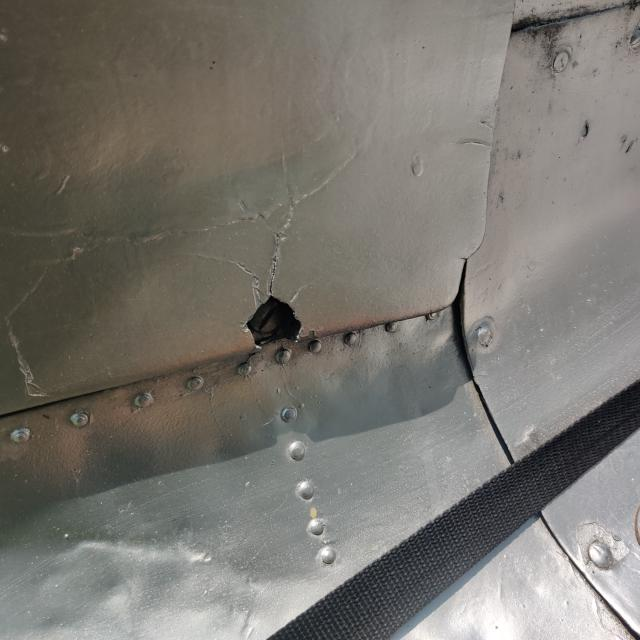crack: (183, 139, 380, 369)
